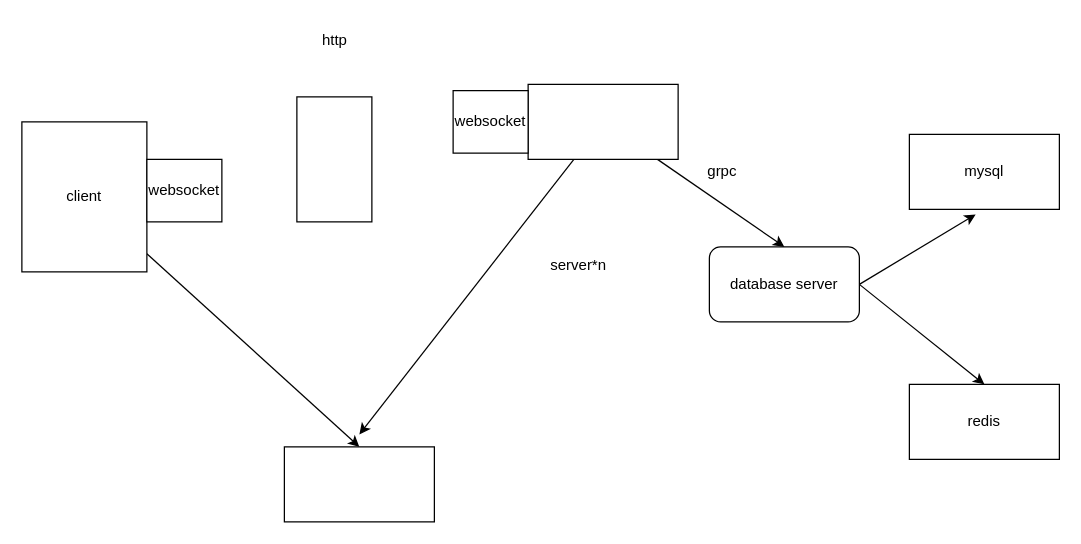
Image size: 1081x544. Some labels were removed from this diagram. The shapes that lost their labels are listed below. From the top down, each one's centre as x and y in pixels, then its label:
At pixel 602 121: "server".
At pixel 334 159: "nginx".
At pixel 358 484: "docker/k8s".
